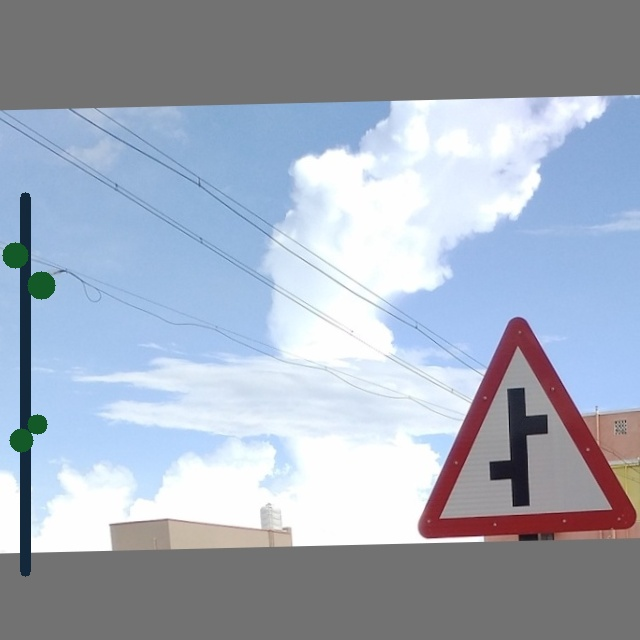Staggered_Intersection: (399, 315, 632, 531)
